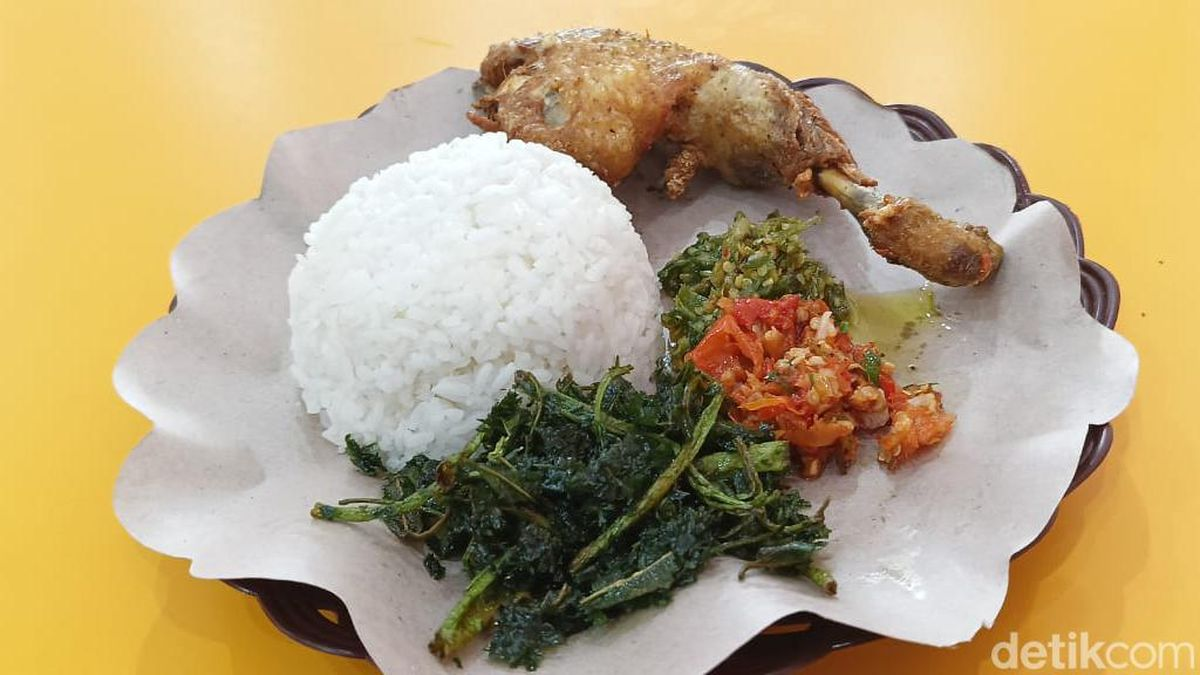buah_sayur_lainnya: (700, 240, 795, 298)
buah_sayur_vitA: (416, 473, 800, 569), (745, 335, 853, 425)
daging: (538, 49, 777, 138)
makanan_berpati: (364, 197, 607, 330)
